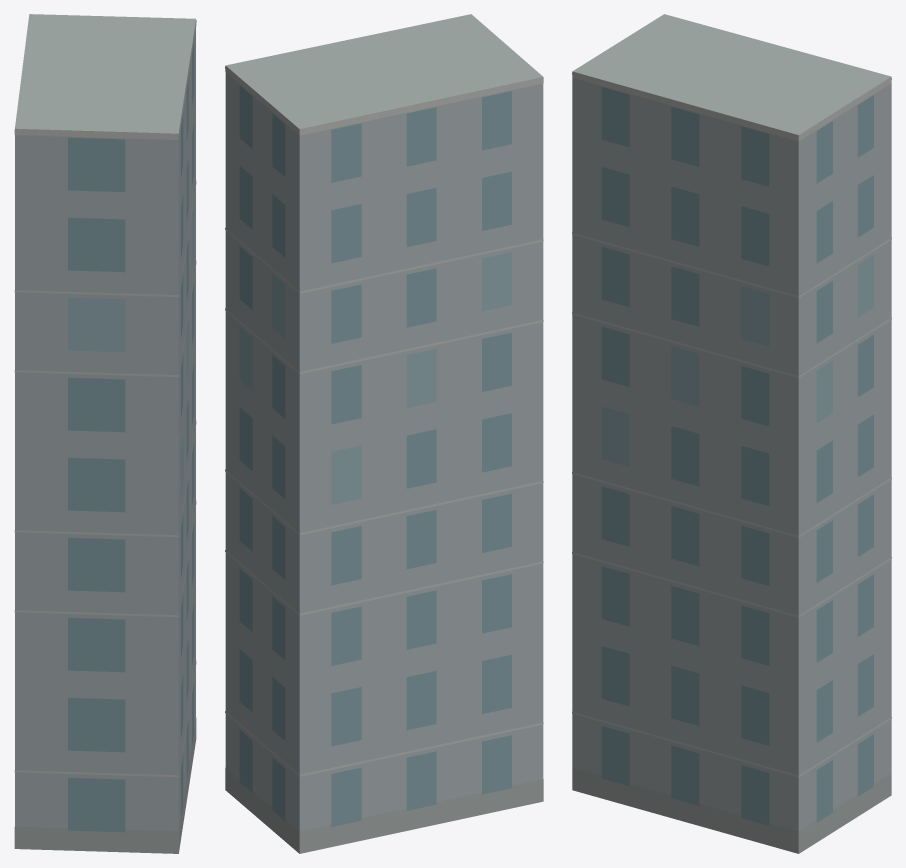
File: survey-upis-32959982.glb
3 views of the same model, side by side, from view 1: azimuth 30°, elevation 25°; view 2: azimuth 150°, elevation 25°; view 3: azimuth 270°, elevation 25° (orthographic).
Parts seen in each view (by area): view 1: survey-upis-32959982.tmp; view 2: survey-upis-32959982.tmp; view 3: survey-upis-32959982.tmp.
Boxes of the visible parts, box(x1,y1,x2,y2) form: survey-upis-32959982.tmp: box(14, 14, 196, 853); survey-upis-32959982.tmp: box(225, 14, 543, 853); survey-upis-32959982.tmp: box(572, 14, 891, 853).
Bounding box in the file's own units: 9.94 × 27.45 × 11.07.
